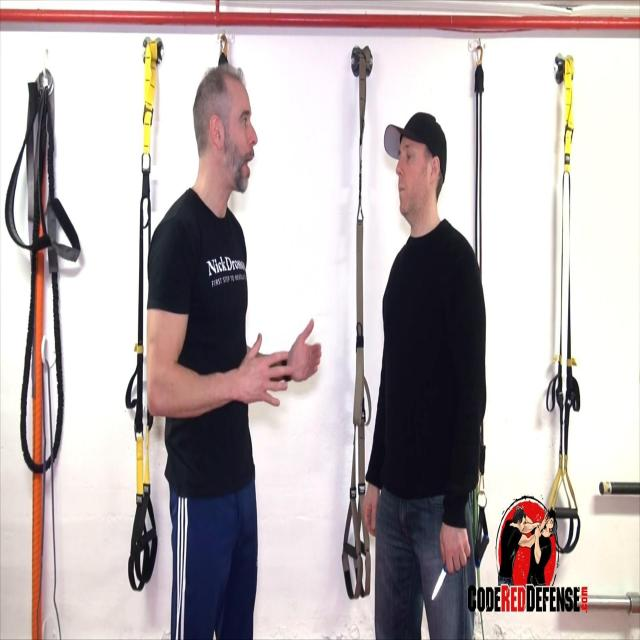scissor: (433, 564, 447, 600)
